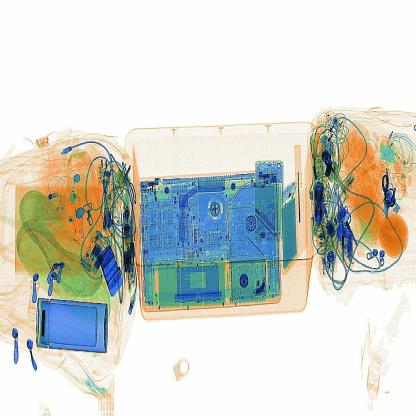wrench: (287, 129, 314, 243)
